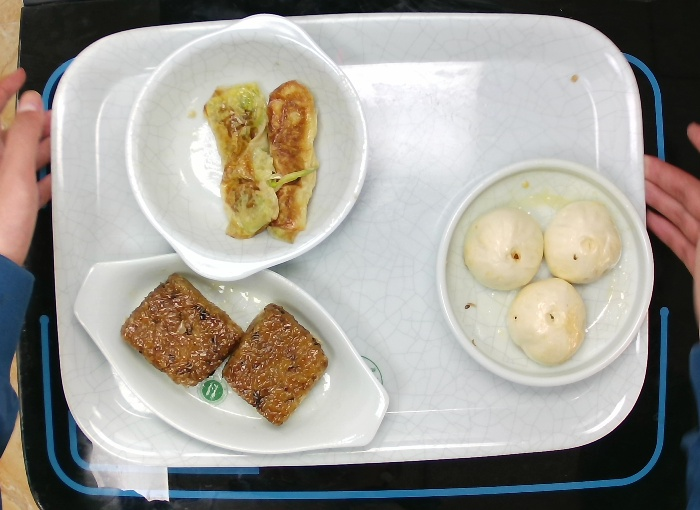JYsf-Shuang_Er_Wan: (121, 10, 375, 282)
JYsf-Xiao_Yuan_Pan: (422, 155, 658, 390)
JYsf-Yu_Pan: (69, 250, 390, 455)
